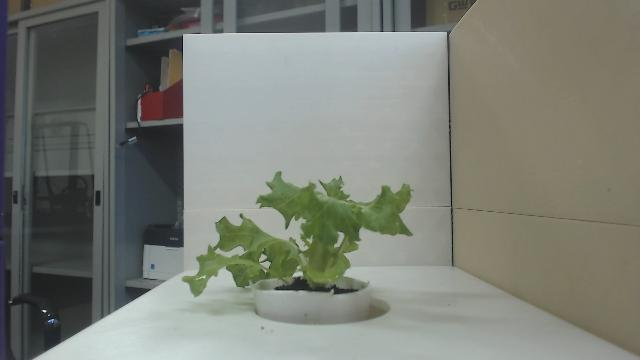Vegetative Stage: (180, 170, 416, 298)
